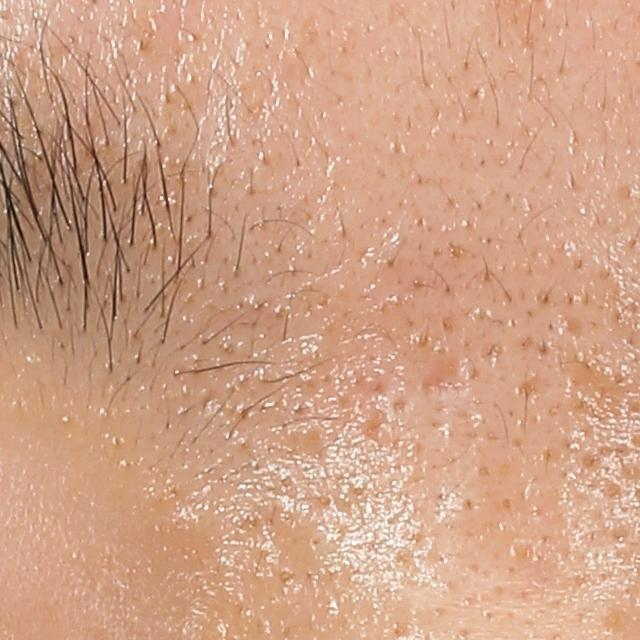atrophic_scar: (416, 352, 474, 402), (286, 432, 329, 463), (358, 410, 390, 445), (510, 375, 542, 399)
